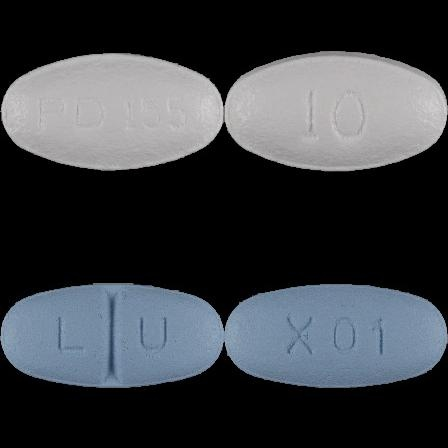42254-307: (0, 0, 224, 224)
